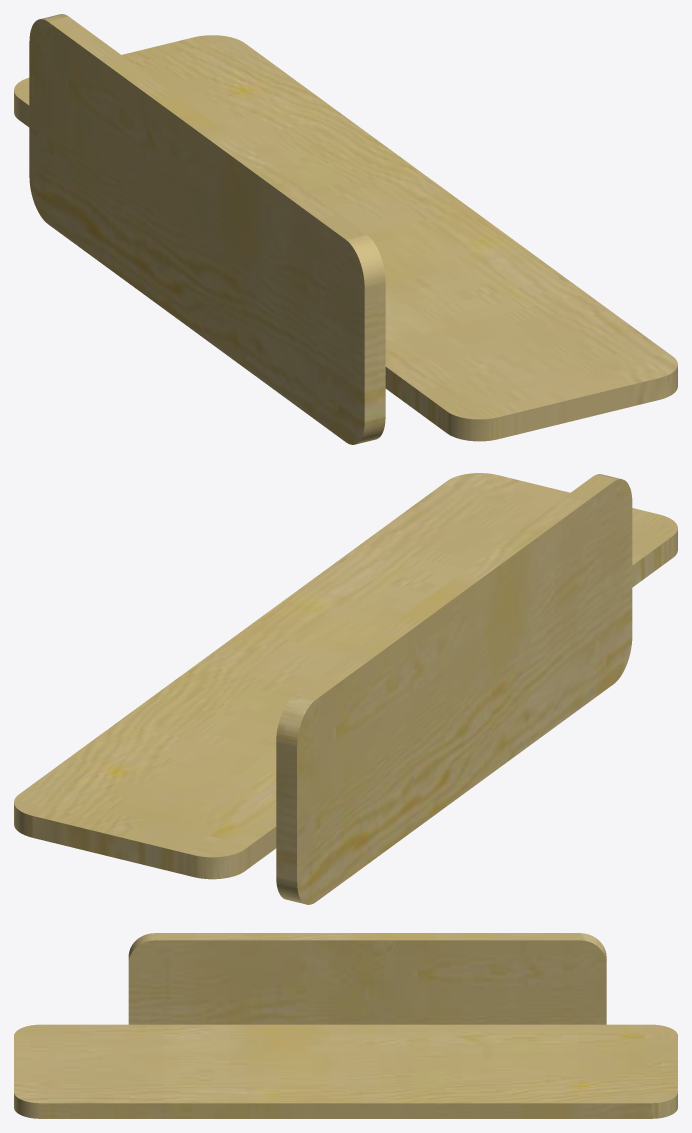
File: repisa-bano.glb
3 views of the same model, one above another, from view 1: azimuth 30°, elevation 25°; view 2: azimuth 150°, elevation 25°; view 3: azimuth 270°, elevation 25° (orthographic). The views are drawn at different scales.
Bounding box in the file's own units: 0.153 × 0.12 × 0.5.
Materials: 2 (2 with a texture image).
